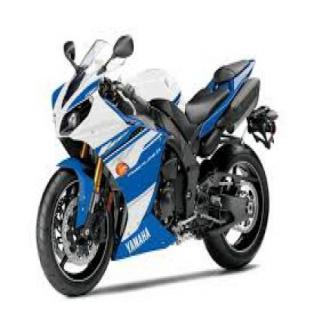Motocicleta: (32, 27, 280, 298)
